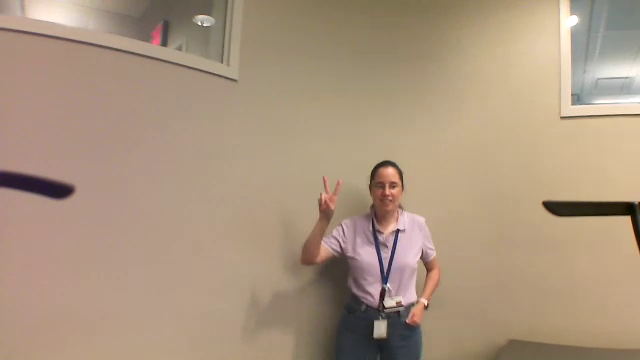peace: (315, 173, 344, 217)
